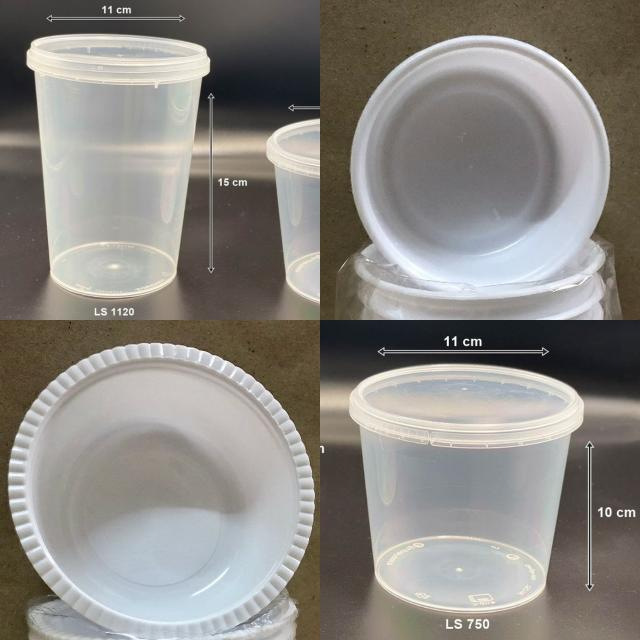Single-Use-Plastic: (9, 344, 314, 638), (351, 36, 610, 291), (350, 365, 582, 612), (26, 34, 210, 298), (266, 119, 320, 302)
